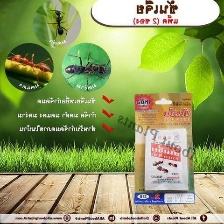book: (131, 90, 197, 206)
insecticide: (141, 126, 191, 195)
